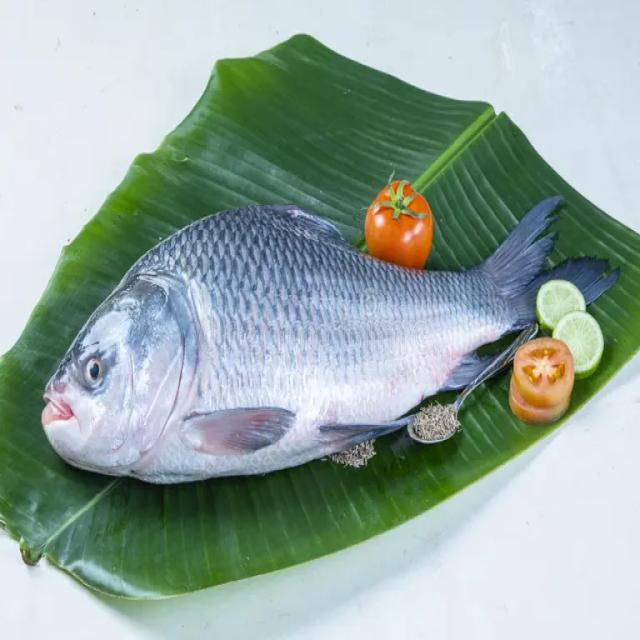Catla: (41, 194, 618, 487)
